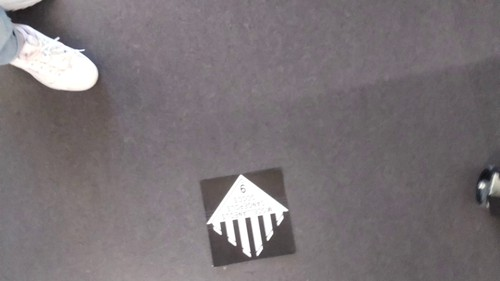misgoods: (197, 175, 294, 260)
